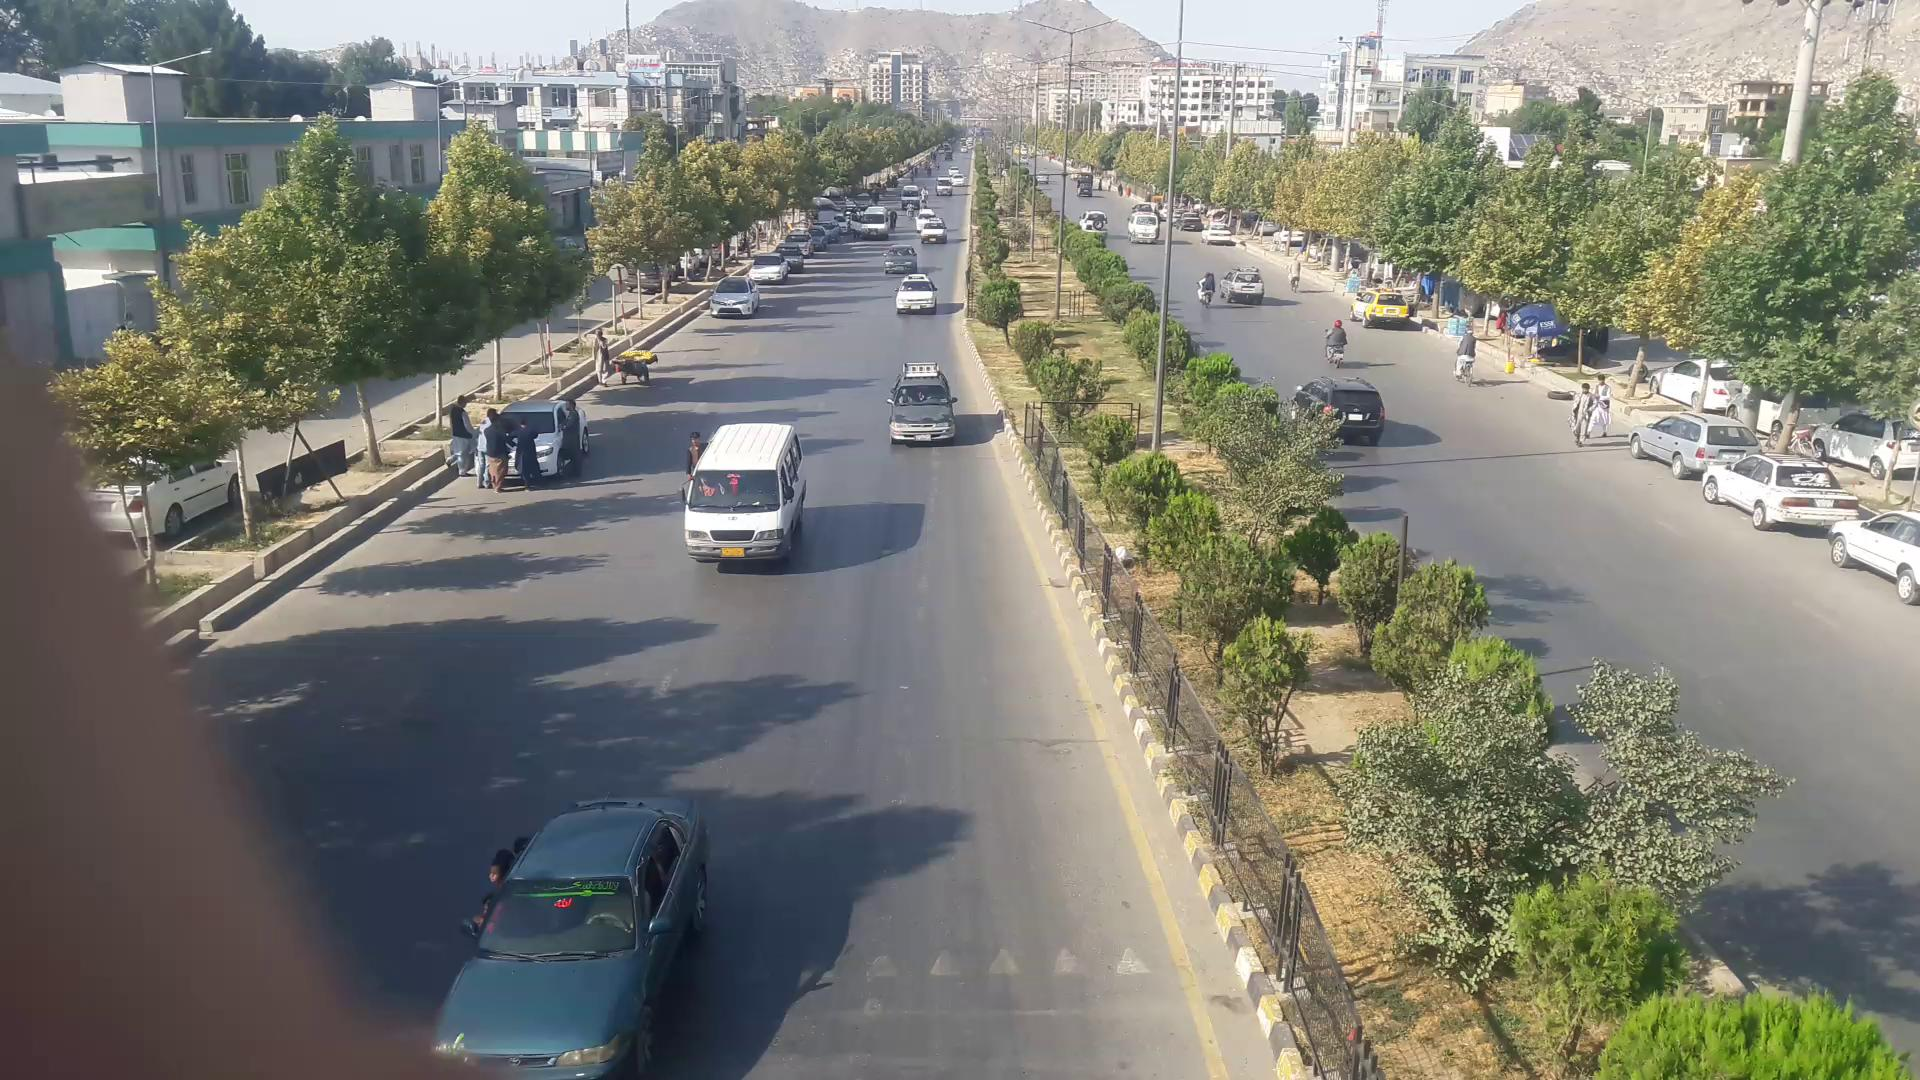bike: (1324, 320, 1349, 369), (1196, 270, 1216, 306)
bus: (679, 425, 807, 563)
car: (427, 794, 713, 1076), (1704, 456, 1861, 535), (1815, 410, 1920, 501), (1829, 513, 1917, 607), (1646, 422, 1774, 480), (1292, 378, 1390, 443), (889, 364, 955, 440), (707, 277, 761, 315), (898, 274, 939, 315), (1218, 270, 1266, 305), (753, 256, 802, 282), (885, 243, 919, 273)
